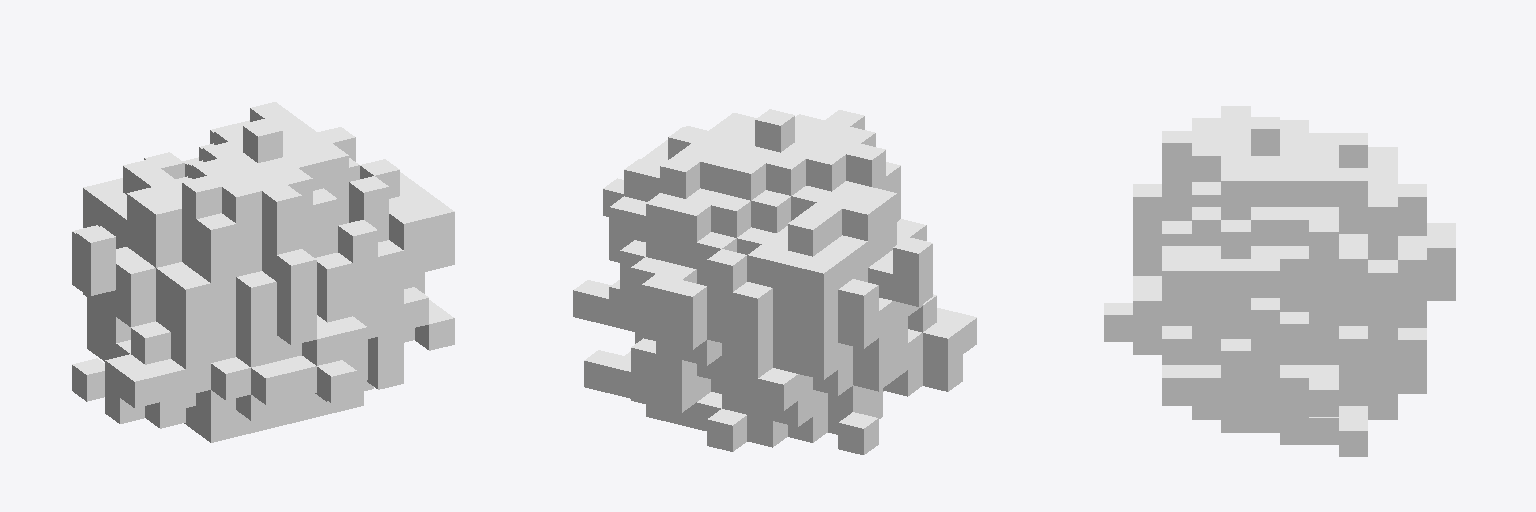
Rendered from Snow_Environment_Deco_Tile_02-5.obj.
The picture shows the model from 3 angles: view 1: azimuth 30°, elevation 25°; view 2: azimuth 150°, elevation 25°; view 3: azimuth 270°, elevation 25°; orthographic projection.
Parts seen in each view (by area): view 1: Snow_Environment_Deco_Tile_02-5; view 2: Snow_Environment_Deco_Tile_02-5; view 3: Snow_Environment_Deco_Tile_02-5.
Part boxes in pixels (bbox=[...]): Snow_Environment_Deco_Tile_02-5: bbox=[72, 102, 454, 442]; Snow_Environment_Deco_Tile_02-5: bbox=[573, 109, 976, 454]; Snow_Environment_Deco_Tile_02-5: bbox=[1104, 106, 1455, 456].
Size of the model in its own units: 13 by 10 by 12.